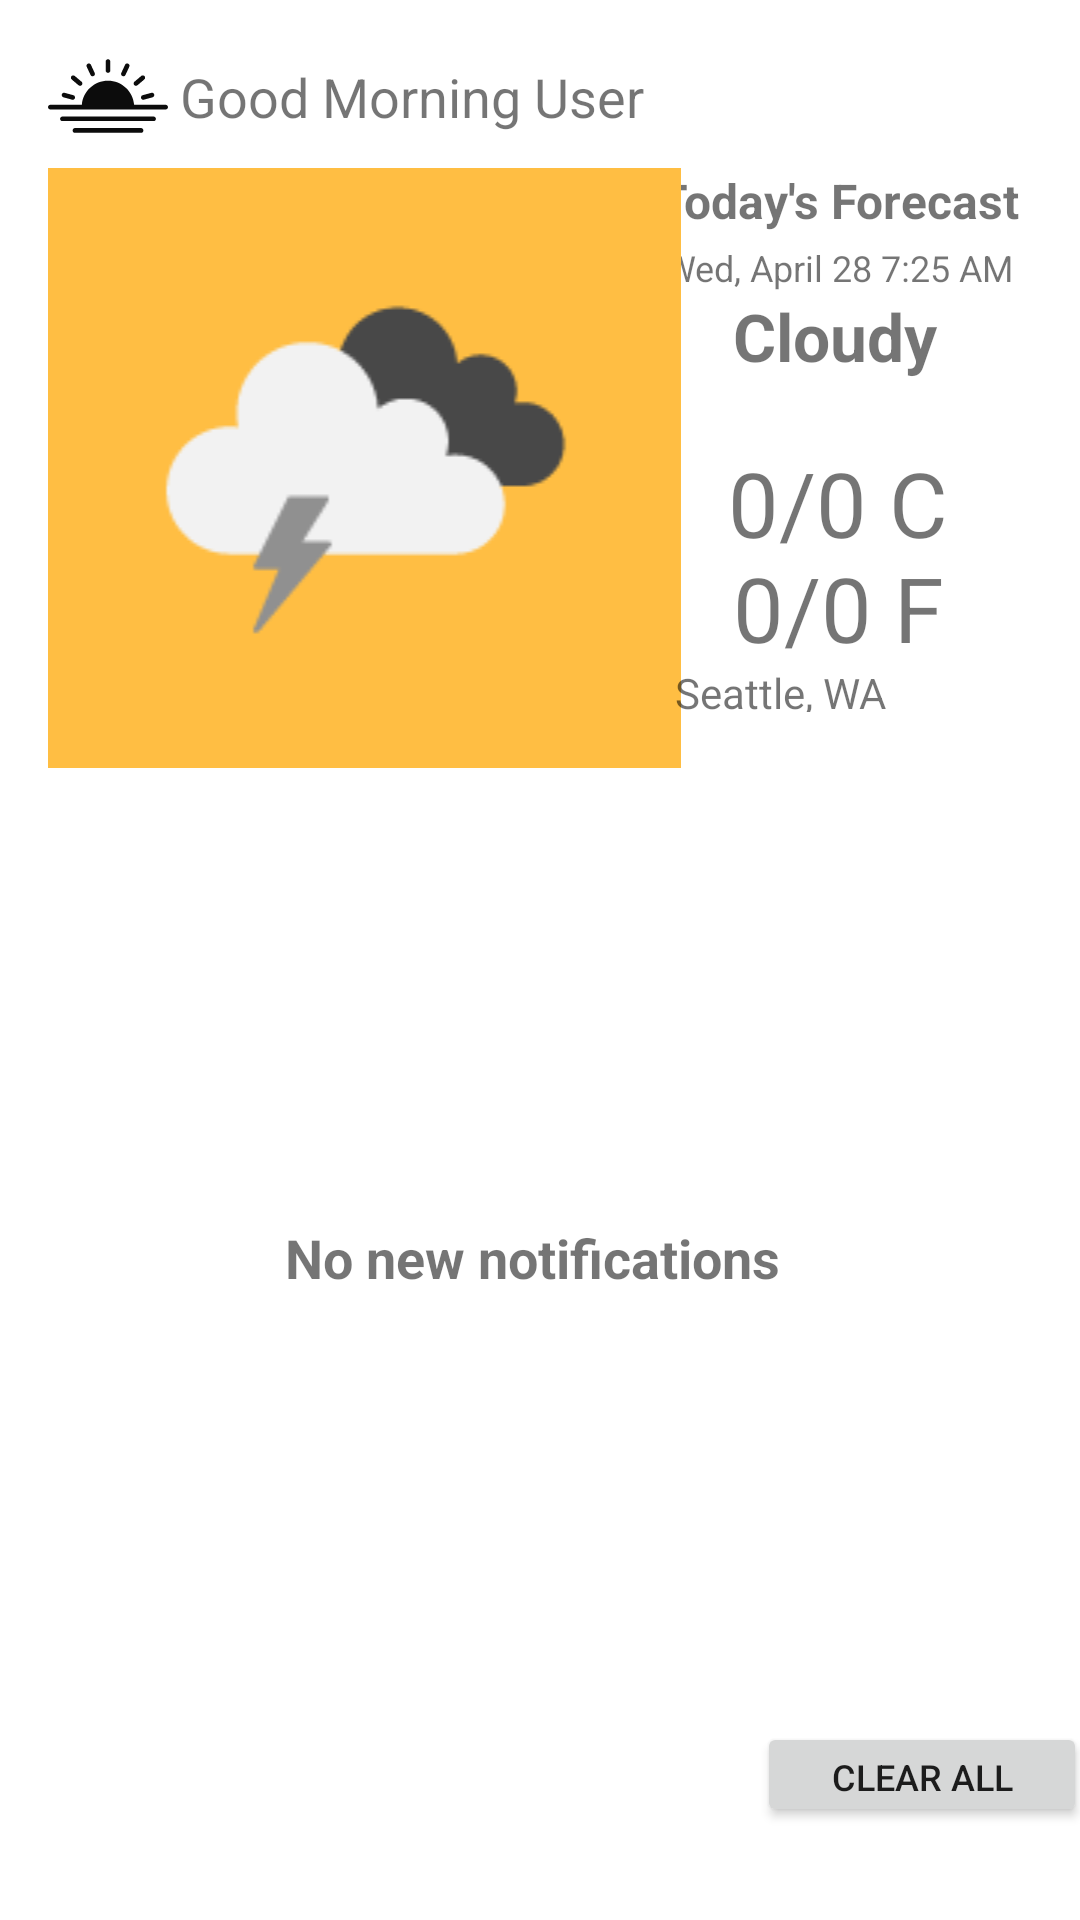

Named icons in this screenshot (1080 × 1920) and their centers, (x=x, y=y):
sunset: (x=108, y=96)
